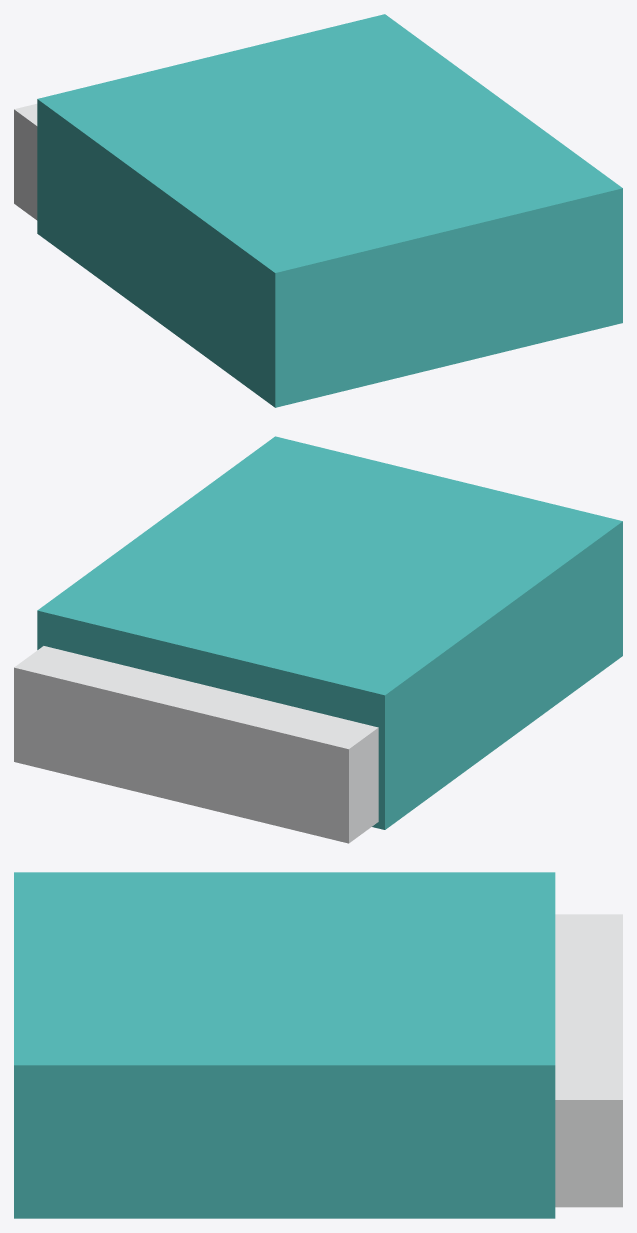
Rendered from astronauta_retro_pe.glb.
3 views of the same model, one above another, from view 1: azimuth 30°, elevation 25°; view 2: azimuth 150°, elevation 25°; view 3: azimuth 270°, elevation 25° (orthographic). The views are drawn at different scales.
Parts seen in each view (by area): view 1: astronauta_retro_pe; view 2: astronauta_retro_pe; view 3: astronauta_retro_pe.
Part boxes in pixels (<box>): astronauta_retro_pe: <box>14,14,622,407</box>; astronauta_retro_pe: <box>14,436,622,843</box>; astronauta_retro_pe: <box>14,872,622,1218</box>.
Bounding box in the file's own units: 0.27 × 0.1 × 0.36.
